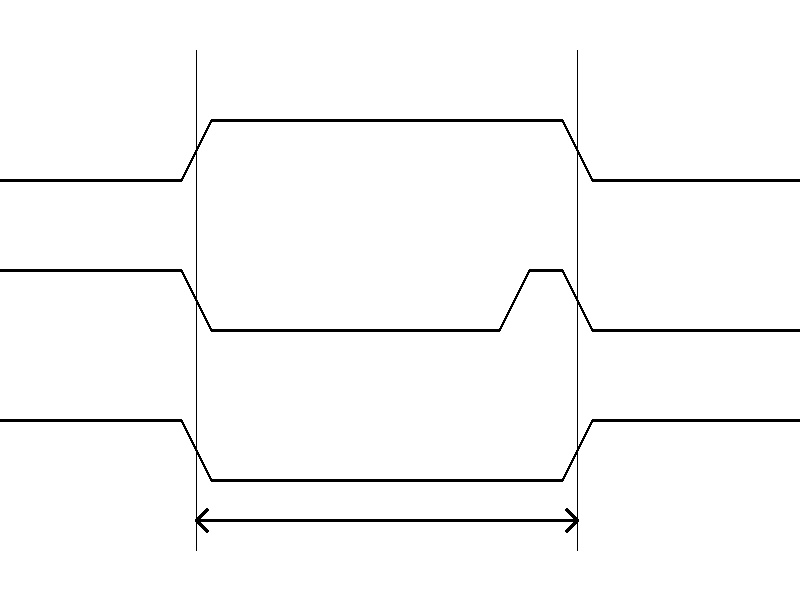double_arrow: (196, 505, 577, 535)
